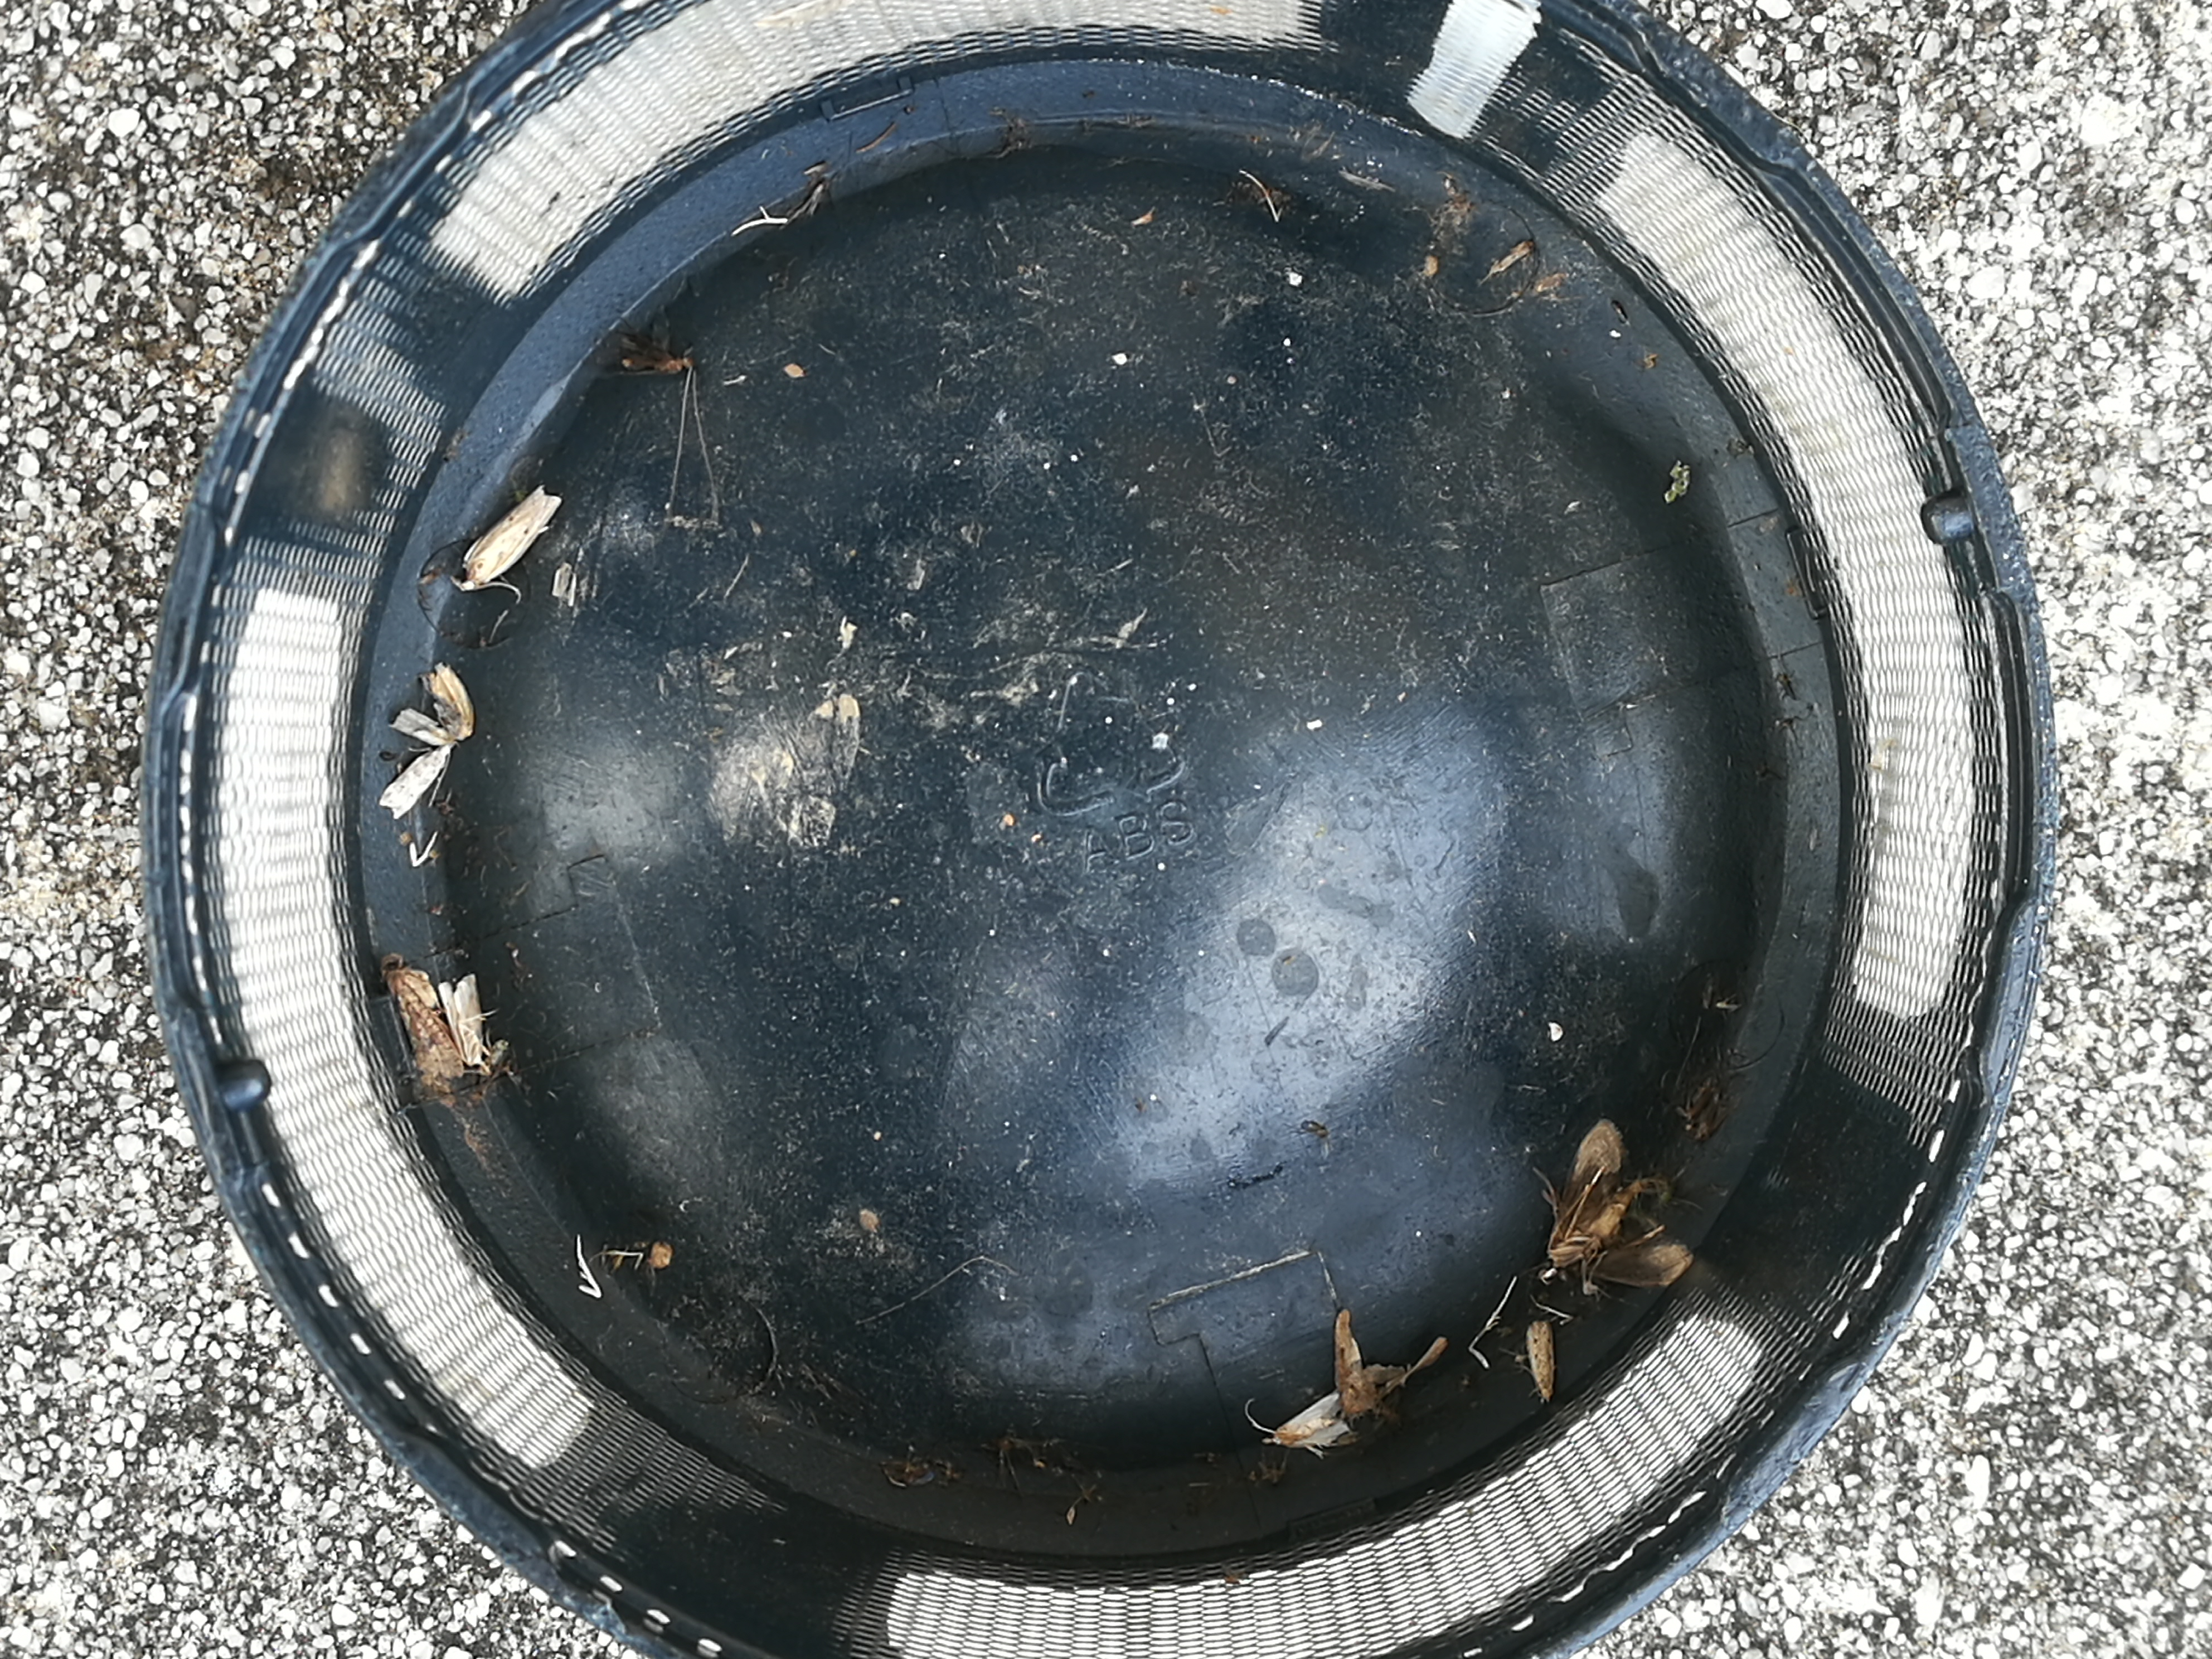mosquito: (458, 488, 561, 592), (597, 314, 691, 371), (378, 746, 449, 817), (439, 974, 481, 1068), (1527, 1319, 1554, 1401)
moth: (1534, 1121, 1689, 1283), (381, 955, 467, 1079), (395, 660, 475, 742), (1271, 1392, 1348, 1445)
